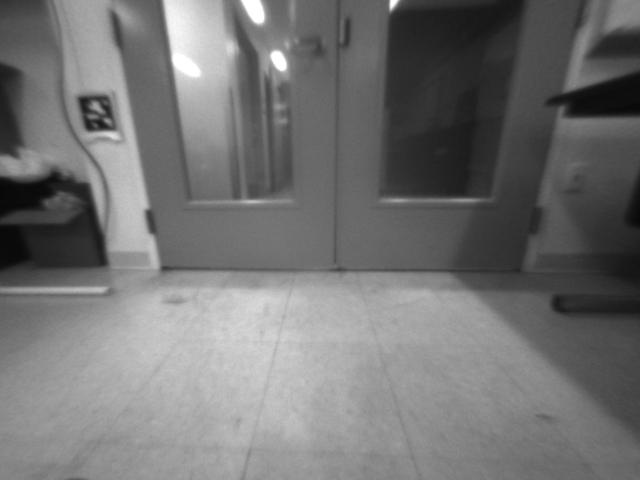door_handle: (277, 31, 327, 58)
